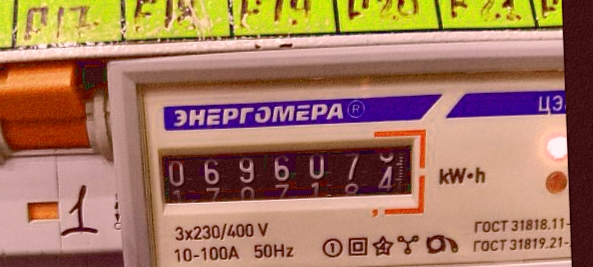0: (165, 157, 187, 188), (307, 151, 327, 180)
4: (374, 163, 394, 193)
6: (271, 152, 292, 184), (201, 156, 221, 185)
7: (342, 148, 361, 180)
9: (236, 154, 257, 184)
screen: (146, 122, 432, 224)
